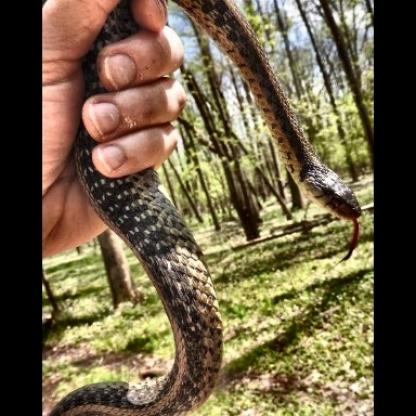Snake: (179, 1, 372, 254)
